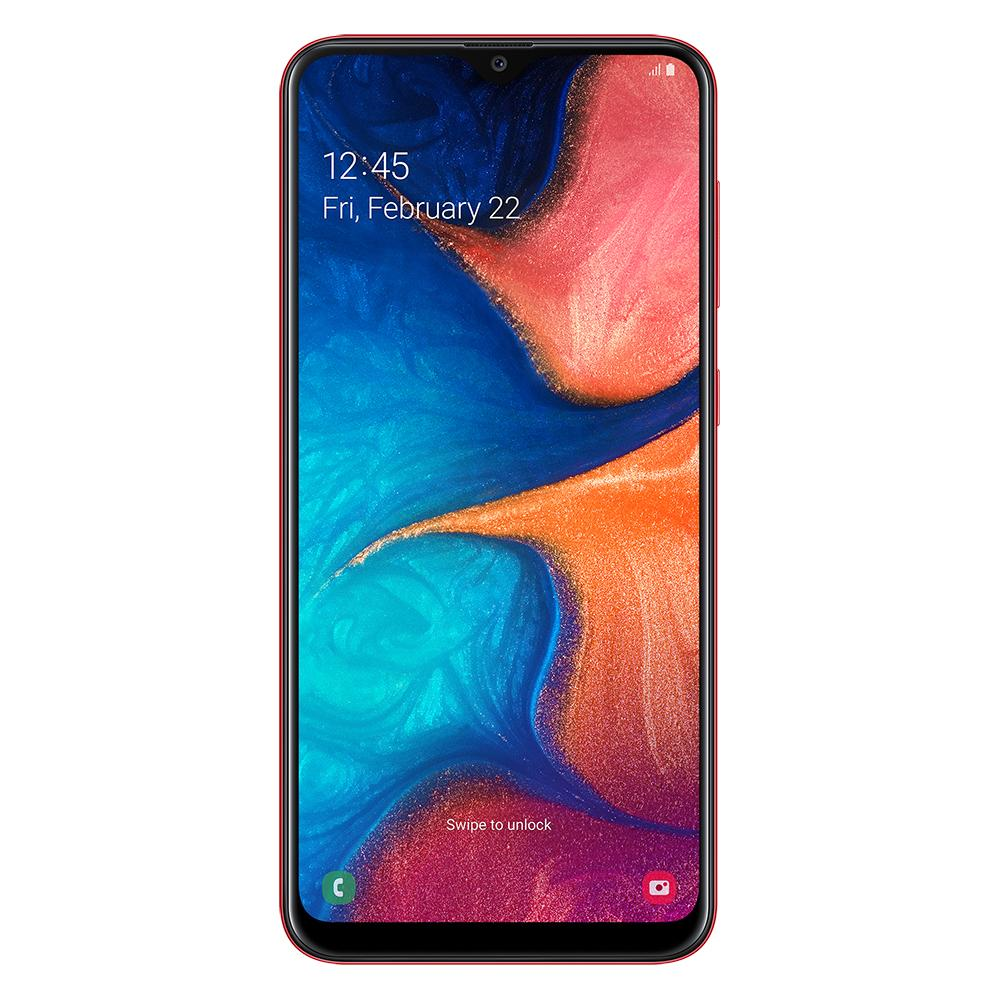Handphone: (270, 25, 728, 979)
